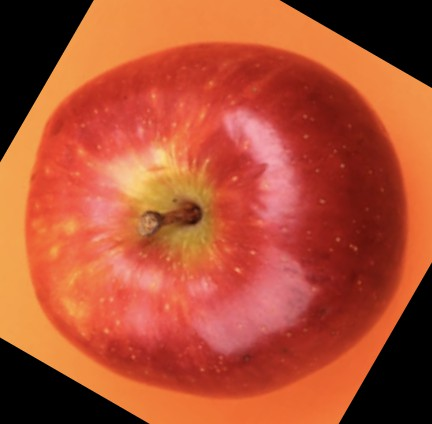fresh_apple: (26, 42, 406, 399)
